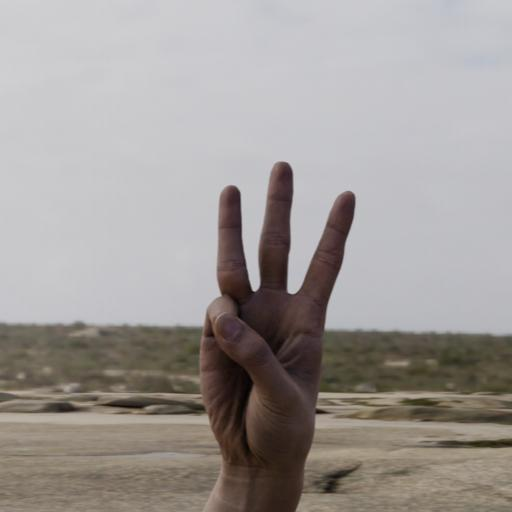W: (196, 154, 365, 480)
